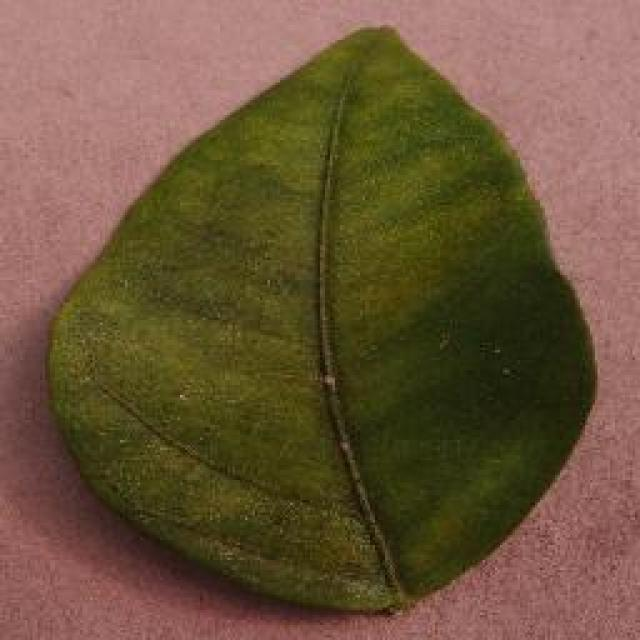Orange_Haunglongbing_Citrus_greening: (109, 92, 539, 540)
